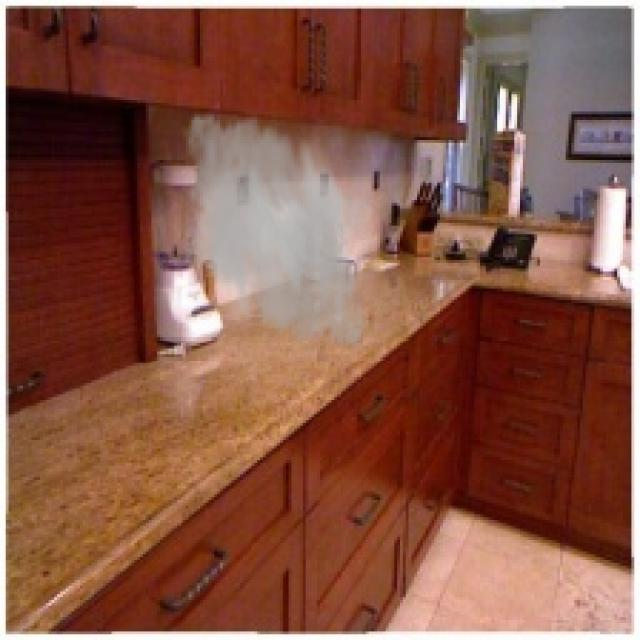smoke: (166, 103, 380, 357)
